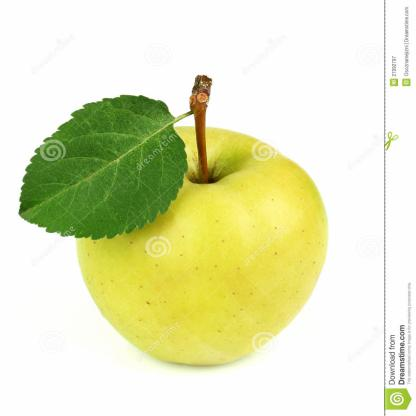apple leaf: (8, 83, 194, 247)
